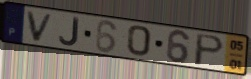0: (126, 24, 153, 58)
6: (165, 28, 192, 65), (94, 19, 120, 54)
J: (58, 16, 80, 47)
P: (192, 32, 226, 67)
V: (26, 10, 56, 44)
